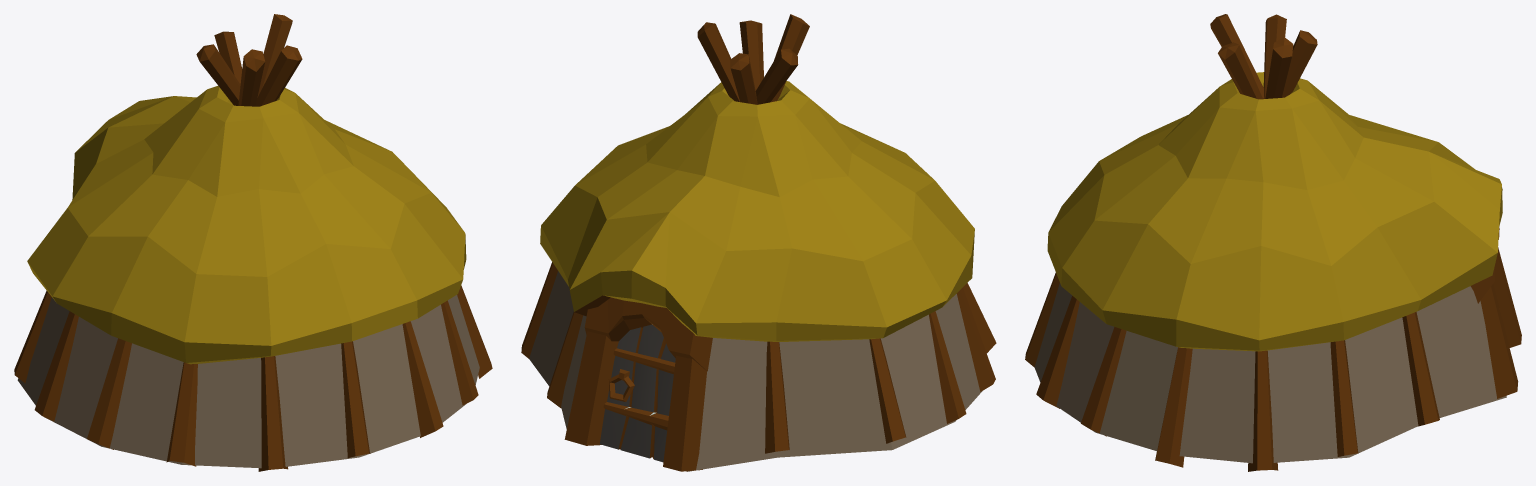
The model's file is Tent.fbx.
3 renders of one model, left to right at view 1: azimuth 30°, elevation 25°; view 2: azimuth 150°, elevation 25°; view 3: azimuth 270°, elevation 25°, orthographic.
Visible parts, largest first — view 1: RoundHut; view 2: RoundHut; view 3: RoundHut.
Boxes of the visible parts, x1,y1,x2,y2 form: RoundHut: [14, 14, 492, 471]; RoundHut: [521, 14, 996, 471]; RoundHut: [1025, 14, 1521, 471].
Size of the model in its own units: 238 by 194 by 245.
